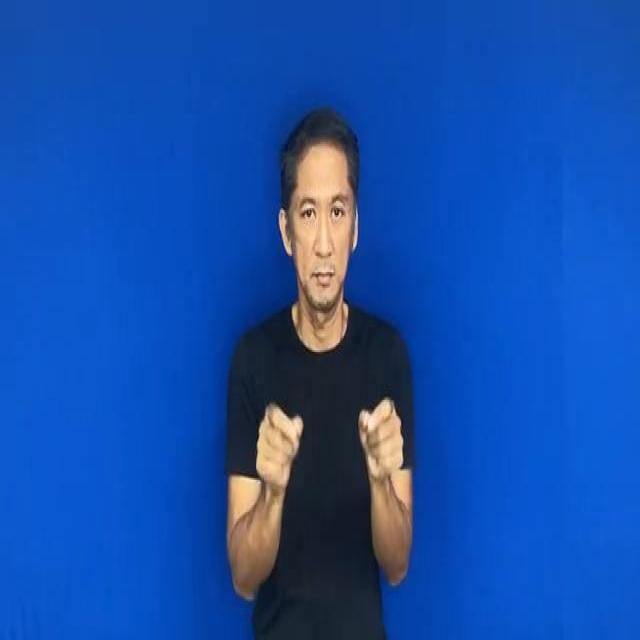crab: (346, 393, 414, 487), (258, 386, 306, 506)
